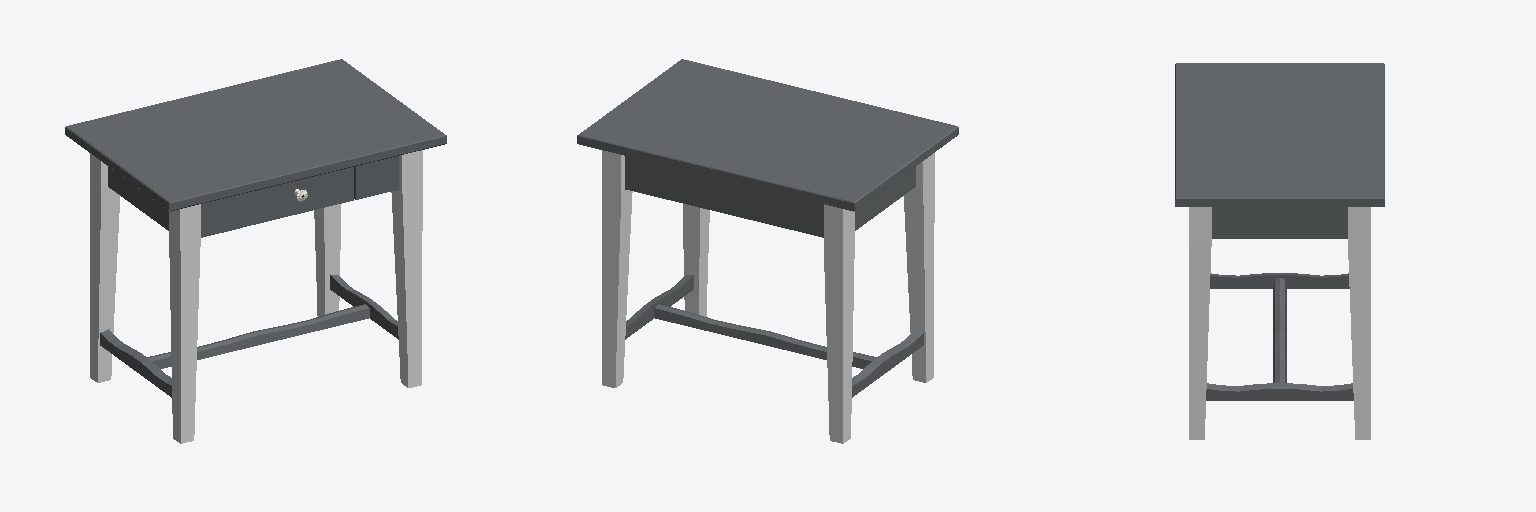
3 renders of one model, left to right at view 1: azimuth 30°, elevation 25°; view 2: azimuth 150°, elevation 25°; view 3: azimuth 270°, elevation 25°, orthographic.
Visible parts, largest first — view 1: Board01 grp_table, grp_table Table_body01, grp_table Drawer01; view 2: grp_table Table_body01, Board01 grp_table; view 3: Board01 grp_table, grp_table Table_body01.
Part boxes in pixels (bbox=[...]): Board01 grp_table: bbox=[65, 59, 446, 211]; grp_table Table_body01: bbox=[90, 150, 422, 443]; grp_table Drawer01: bbox=[240, 167, 353, 227]; grp_table Table_body01: bbox=[602, 150, 934, 443]; Board01 grp_table: bbox=[577, 59, 958, 211]; Board01 grp_table: bbox=[1175, 63, 1384, 206]; grp_table Table_body01: bbox=[1189, 207, 1370, 439].
Size of the model in its own units: 92.61 by 79.97 by 60.4.
Materials: 1 (1 with a texture image).